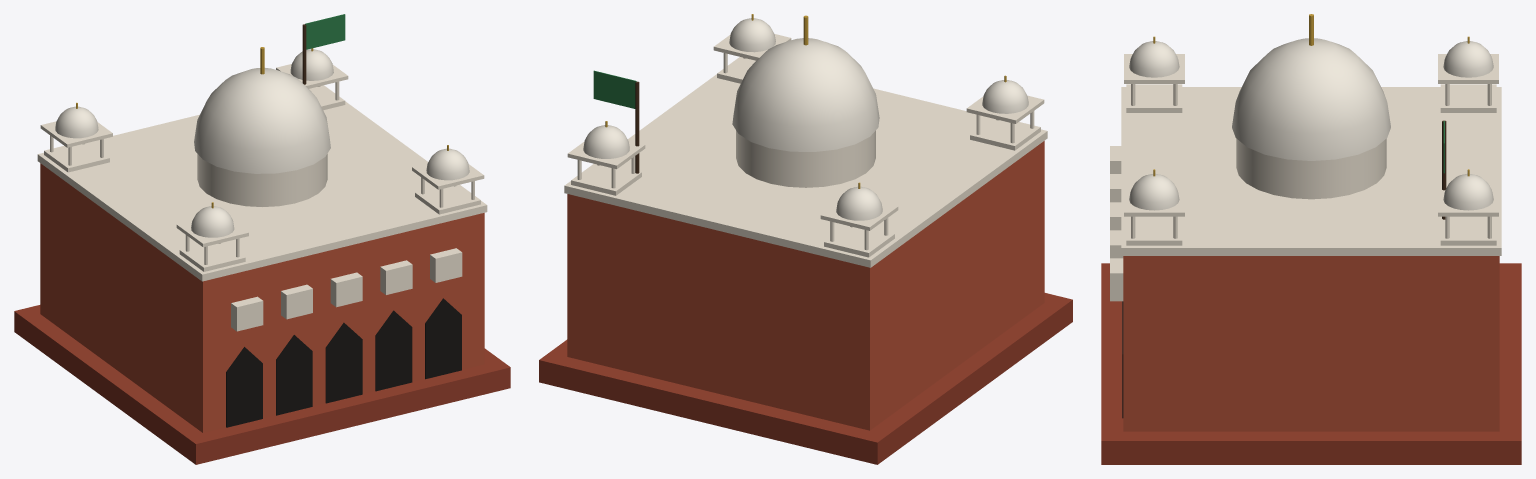
The model's file is keep.glb.
3 renders of one model, left to right at view 1: azimuth 30°, elevation 25°; view 2: azimuth 150°, elevation 25°; view 3: azimuth 270°, elevation 25°, orthographic. The views are drawn at different scales.
Visible parts, largest first — view 1: Keep; view 2: Keep; view 3: Keep.
Boxes of the visible parts, box(x1,y1,x2,y2) form: Keep: box(14, 14, 510, 464); Keep: box(539, 14, 1072, 464); Keep: box(1101, 14, 1521, 464).
Size of the model in its own units: 19 by 18 by 19.
